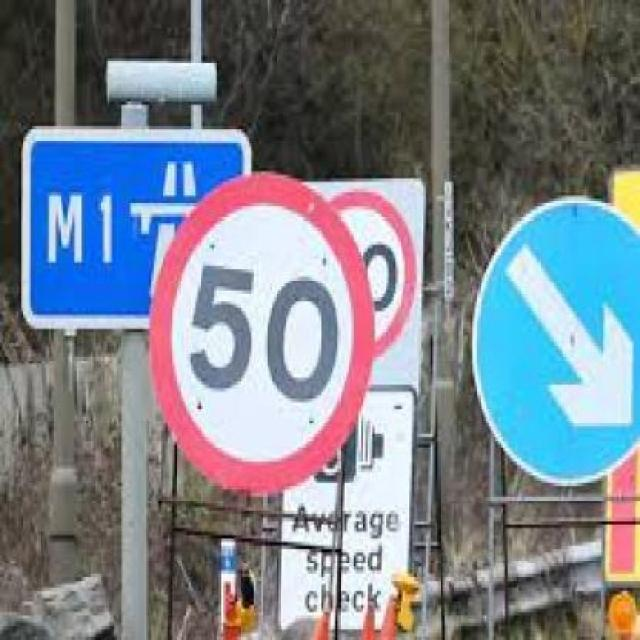forb_speed_over_50: (160, 177, 363, 486)
